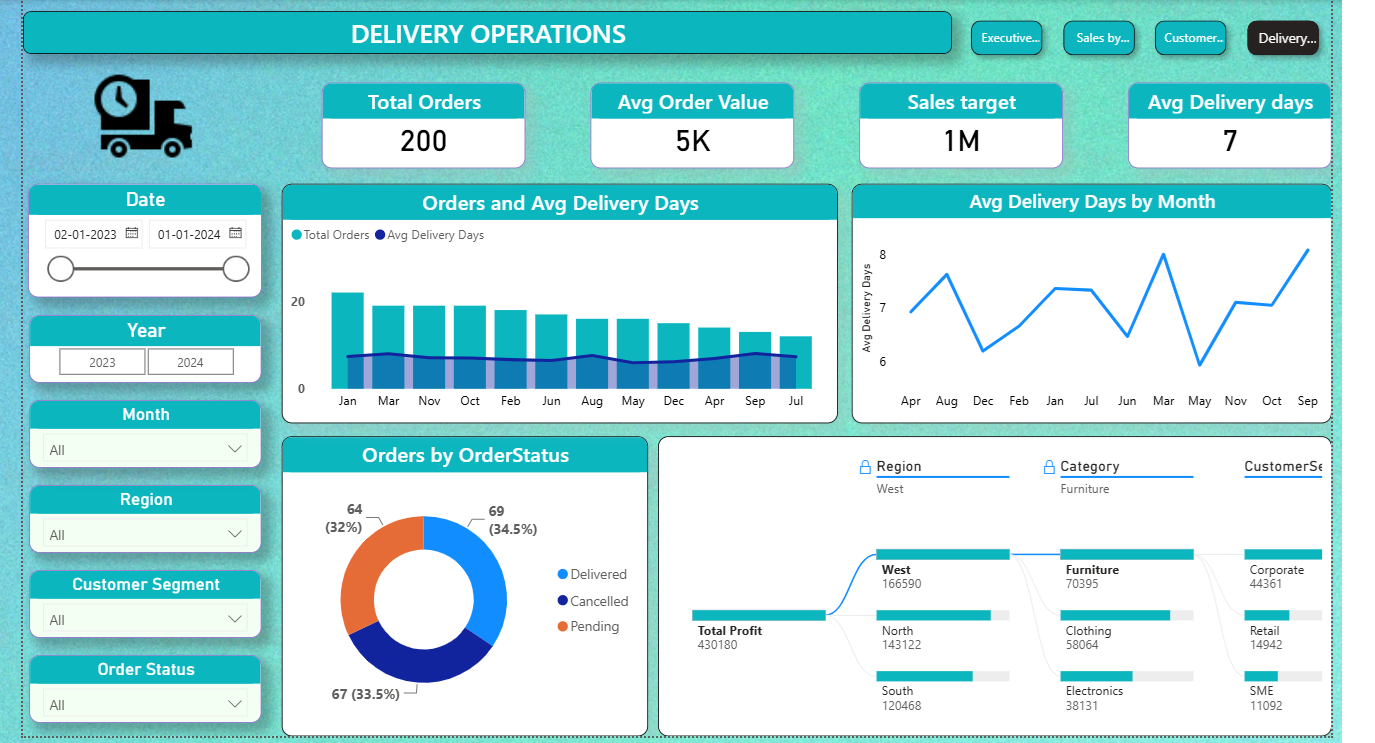

The page's visual inventory and layout, read from the dashboard file:
{"tool":"powerbi","page":{"name":"Delivery Operations","canvas":[1280,720],"ordinal":3},"visuals":[{"type":"lineChart","title":"Avg Delivery Days by Month","fields":{"Category":["DateTable.Short Month"],"Y":["Measures Table.Avg Delivery Days"]},"box":[810.7,179.8,469.6,234.8],"z":0},{"type":"donutChart","title":"Orders by OrderStatus","fields":{"Category":["Sales.OrderStatus"],"Y":["Measures Table.Total Orders"]},"box":[253.1,426.8,358.3,293.5],"z":1000},{"type":"card","title":"Avg Delivery days","fields":{"Values":["Measures Table.Avg Delivery Days"]},"box":[1080.7,81,199.3,84.4],"z":2000},{"type":"lineClusteredColumnComboChart","title":"Orders and Avg Delivery Days","fields":{"Category":["DateTable.Short Month"],"Y":["Measures Table.Total Orders"],"Y2":["Measures Table.Avg Delivery Days"]},"box":[253.1,179.8,544.2,234.8],"z":3000},{"type":"decompositionTreeVisual","fields":{"Analyze":["Measures Table.Total Profit"],"ExplainBy":["Customers.Region","Products.Category","Customers.CustomerSegment"]},"box":[621.2,426.8,659.1,293.5],"z":4000},{"type":"textbox","title":"DELIVERY OPERATIONS","box":[0,11,908.6,41.6],"z":5000},{"type":"slicer","title":"Date","fields":{"Values":["DateTable.Date"]},"box":[4.9,179.8,228.7,111.3],"z":6000},{"type":"slicer","title":"Year","fields":{"Values":["DateTable.Year"]},"box":[6.1,308.2,227.4,66],"z":7000},{"type":"slicer","title":"Region","fields":{"Values":["Sales.Region"]},"box":[6.1,474.5,227.4,66],"z":8000},{"type":"slicer","title":"Customer Segment","fields":{"Values":["Customers.CustomerSegment"]},"box":[6.1,557.6,227.4,66],"z":9000},{"type":"slicer","title":"Order Status","fields":{"Values":["Sales.OrderStatus"]},"box":[6.1,640.8,227.4,66],"z":10000},{"type":"slicer","title":"Month","fields":{"Values":["DateTable.Short Month"]},"box":[6.1,391.3,227.4,66],"z":11000},{"type":"card","title":"Avg Order Value","fields":{"Values":["Measures Table.Avg Order Value"]},"box":[555.2,81,199.3,84.4],"z":12000},{"type":"card","title":"Total Orders","fields":{"Values":["Measures Table.Total Orders"]},"box":[292.3,81,199.3,84.4],"z":13000},{"type":"card","title":"Sales target","fields":{"Values":["Measures Table.Sales Target"]},"box":[818.1,81,199.3,84.4],"z":14000},{"type":"image","box":[63.6,63.6,111.3,101.5],"z":15000},{"type":"pageNavigator","box":[918.3,11,359.5,52.6],"z":16000}]}

Visuals, with their boxes on the page's 1280x720 design canvas (x1, y1, x2, y2). These are canvas units, not pixel positions in the 1375x743 screenshot, which may show the page scaled, cropped or inside an application window:
"Avg Delivery Days by Month" lineChart: BBox(811, 180, 1280, 415)
"Orders by OrderStatus" donutChart: BBox(253, 427, 611, 720)
"Avg Delivery days" card: BBox(1081, 81, 1280, 165)
"Orders and Avg Delivery Days" lineClusteredColumnComboChart: BBox(253, 180, 797, 415)
decompositionTreeVisual - Measures Table.Total Profit x Customers.Region: BBox(621, 427, 1280, 720)
"DELIVERY OPERATIONS" textbox: BBox(0, 11, 909, 53)
"Date" slicer: BBox(5, 180, 234, 291)
"Year" slicer: BBox(6, 308, 234, 374)
"Region" slicer: BBox(6, 474, 234, 540)
"Customer Segment" slicer: BBox(6, 558, 234, 624)
"Order Status" slicer: BBox(6, 641, 234, 707)
"Month" slicer: BBox(6, 391, 234, 457)
"Avg Order Value" card: BBox(555, 81, 754, 165)
"Total Orders" card: BBox(292, 81, 492, 165)
"Sales target" card: BBox(818, 81, 1017, 165)
image: BBox(64, 64, 175, 165)
pageNavigator: BBox(918, 11, 1278, 64)
